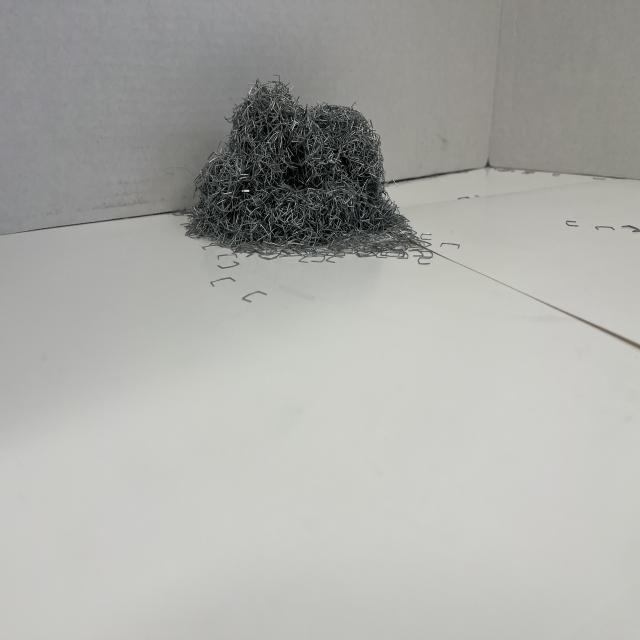staples: (182, 76, 424, 257)
